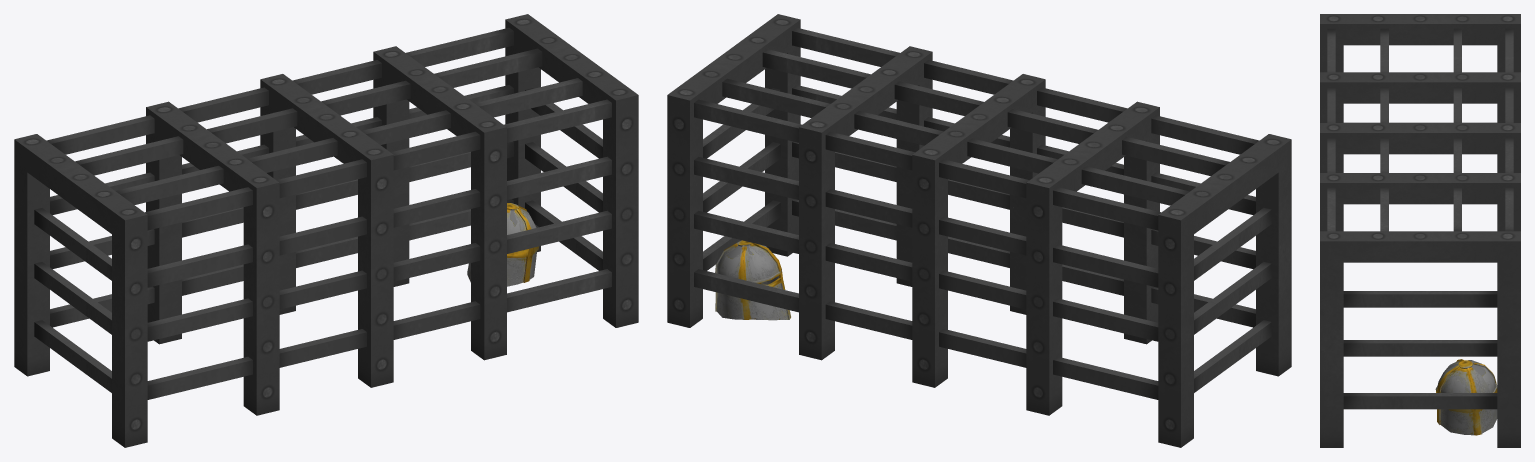
File: mod_prop_cage.fbx
The picture shows the model from 3 angles, left to right: view 1: azimuth 30°, elevation 25°; view 2: azimuth 150°, elevation 25°; view 3: azimuth 270°, elevation 25°; orthographic projection. The views are drawn at different scales.
Parts seen in each view (by area): view 1: pCube24; view 2: pCube24; view 3: pCube24.
Part boxes in pixels (bbox=[...]): pCube24: bbox=[14, 14, 638, 447]; pCube24: bbox=[667, 14, 1291, 447]; pCube24: bbox=[1320, 14, 1520, 447].
Size of the model in its own units: 1370 by 582 by 511.
1 material, 1 textured.
